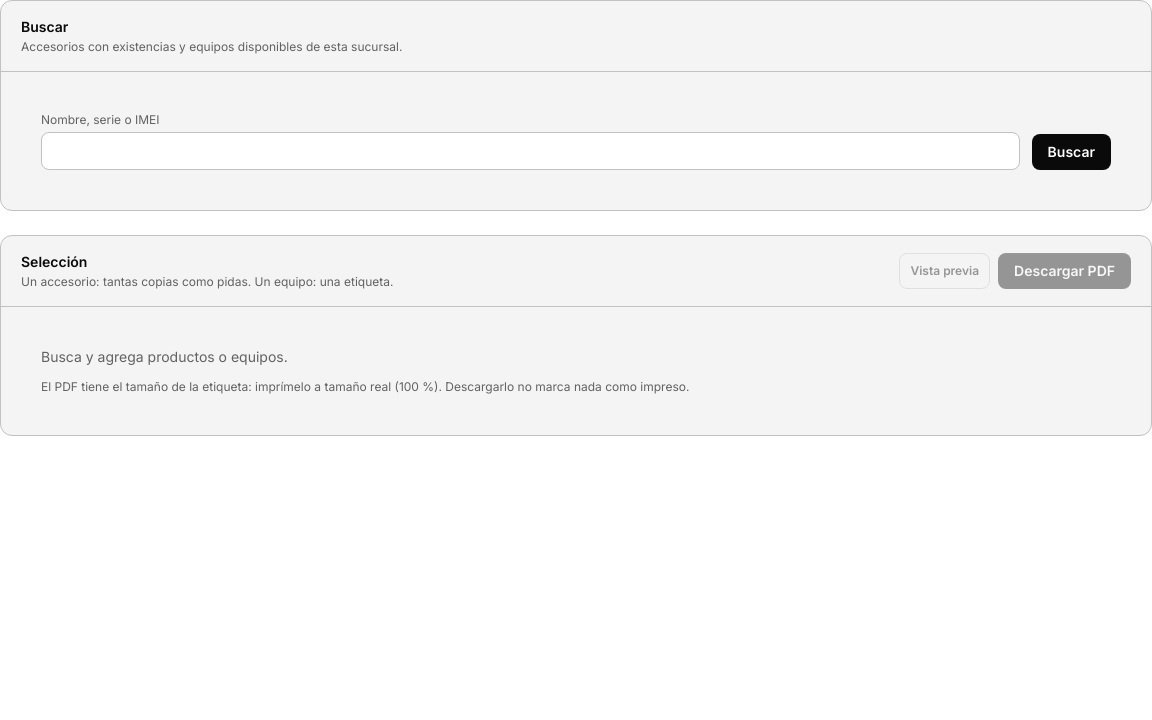
Test: Etiquetas y códigos de barras › con todo para revisar (409) muestra el motivo de cada etiqueta
The width and height of the screenshot is (1152, 720).
Click the button "Buscar" at (1071,152), box [1032,134,1111,170]
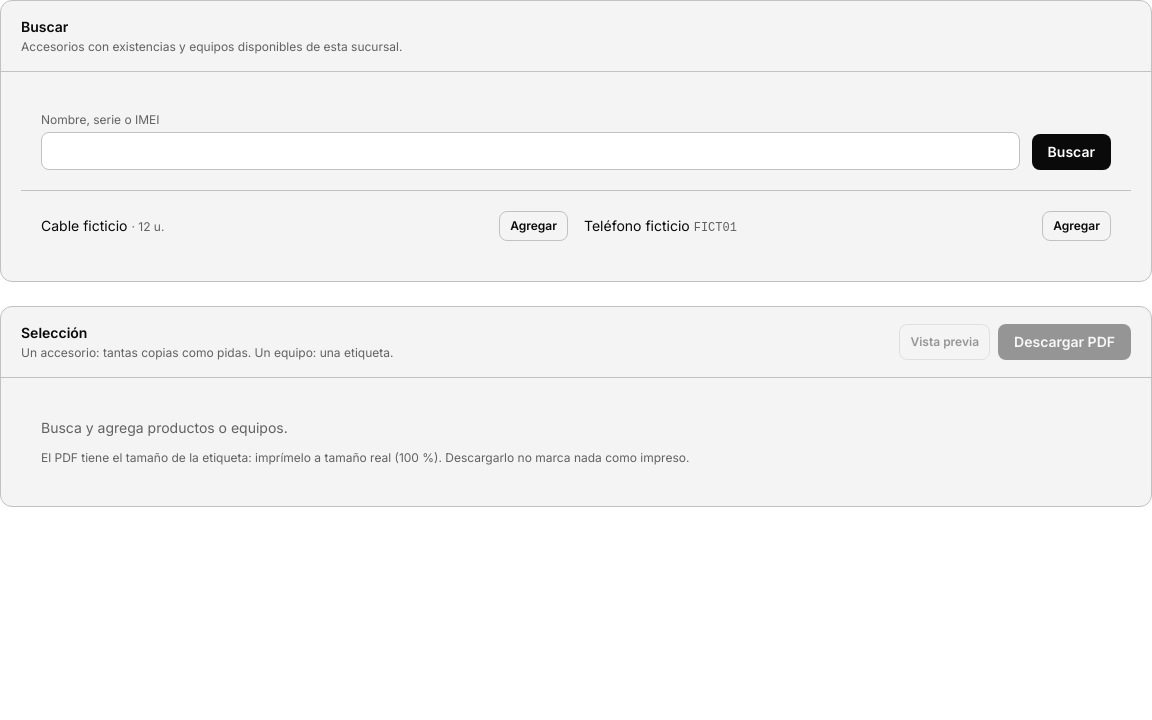
Click the button with aria-label "Agregar Cable ficticio" at (534,226), box [499,211,568,241]
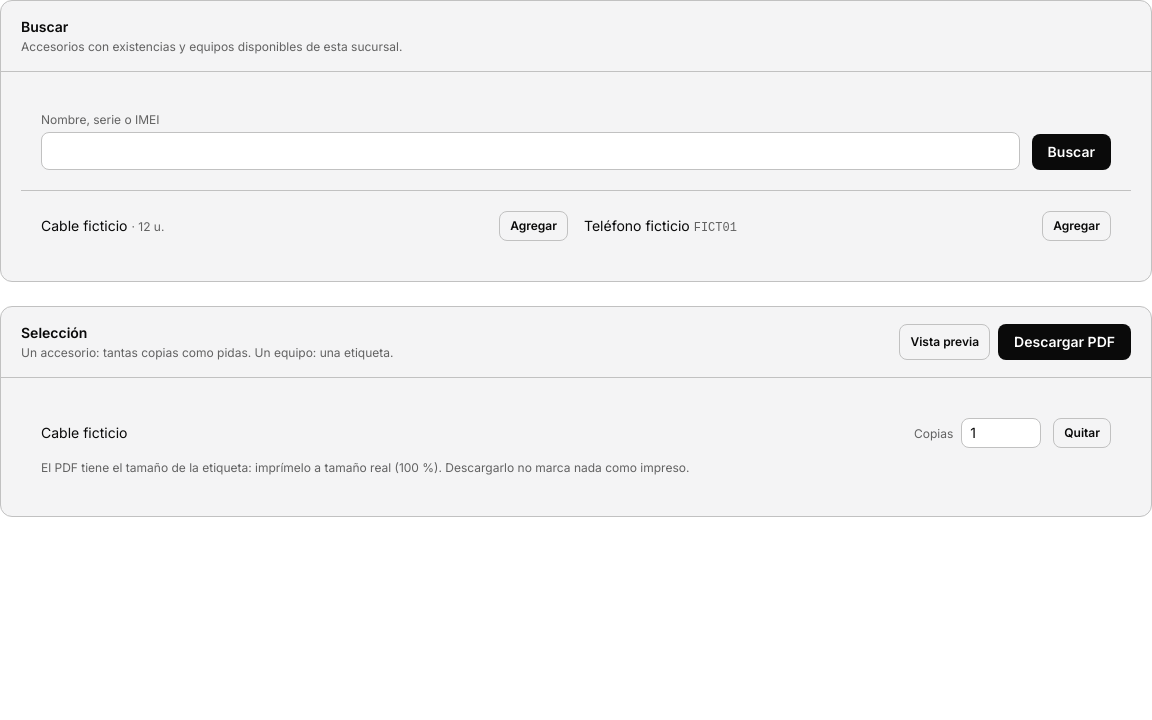
Click the button with aria-label "Agregar equipo FICT01" at (1077,226), box [1042,211,1111,241]
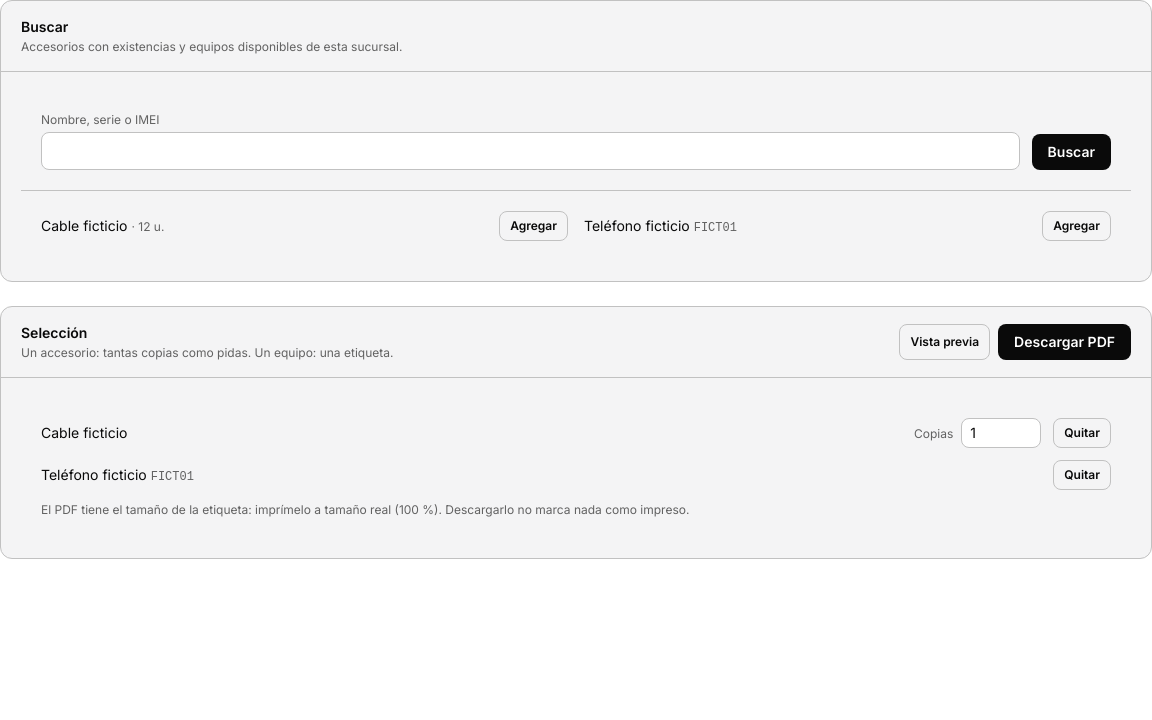
Replace the text in the number field named "Copias de Cable ficticio" with "3" at (1001,433), box [961,418,1041,448]
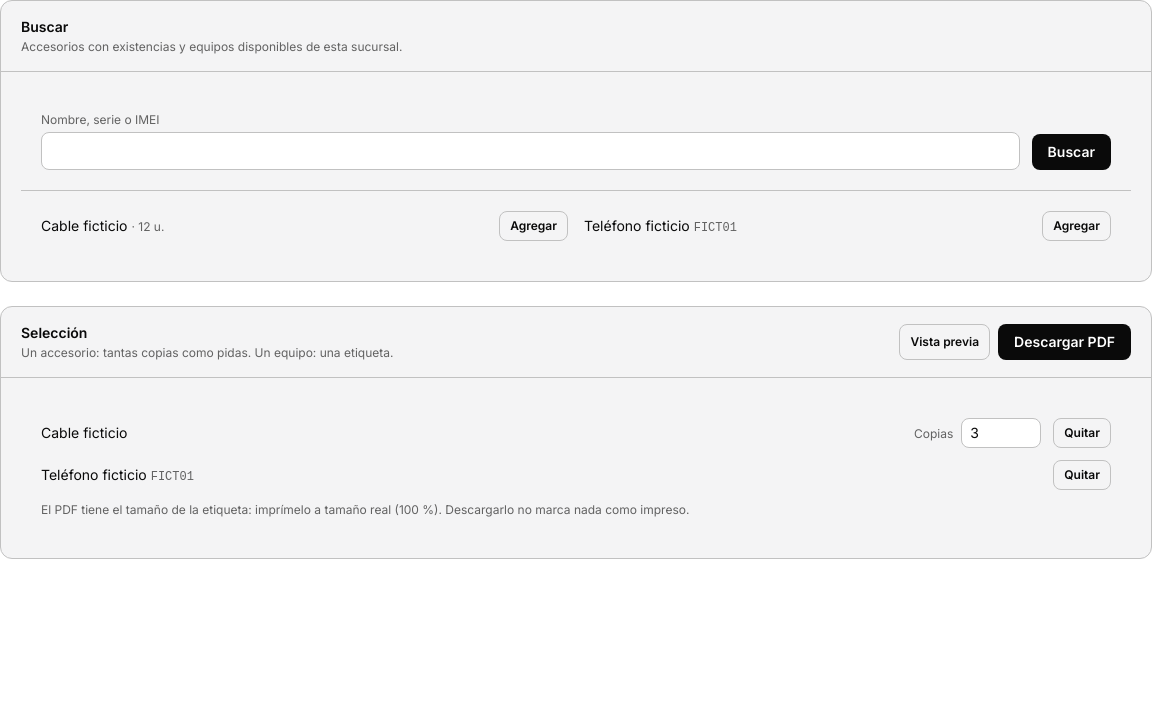
Click the button "Descargar PDF" at (1065,342), box [998,324,1131,360]
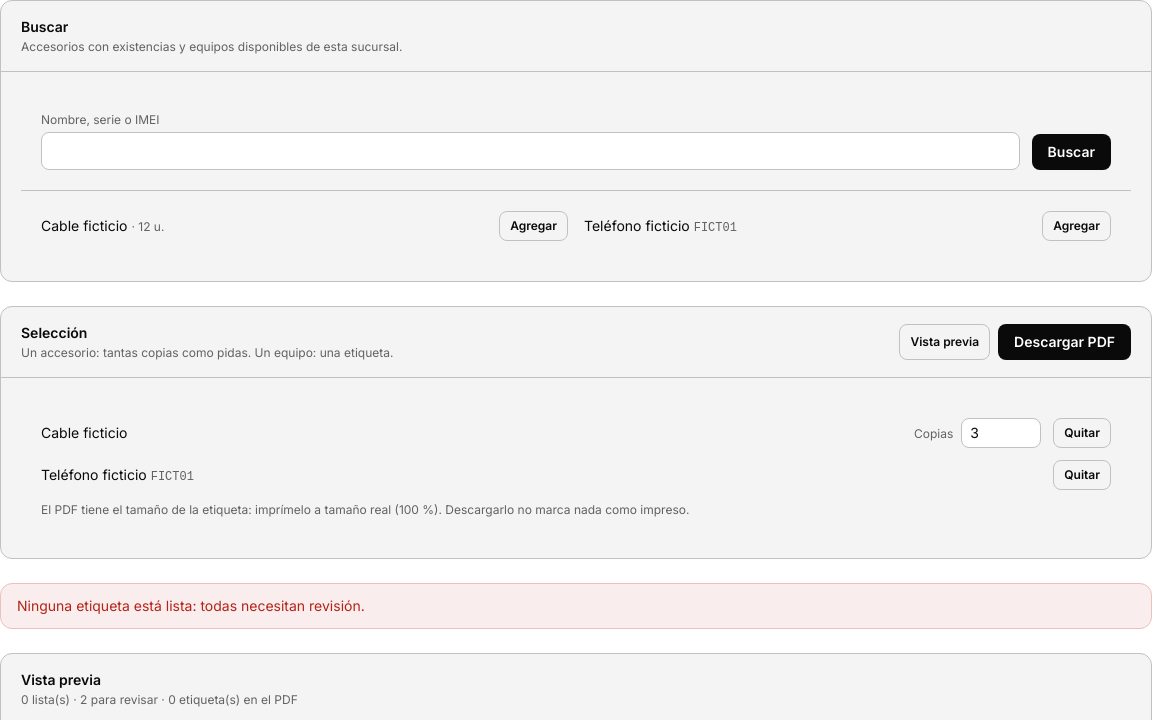
Now the text "Ninguna etiqueta está lista: todas necesitan revisión." is shown, box [17,597,365,614]
Now the heading "Vista previa" is shown, box [21,671,101,688]
